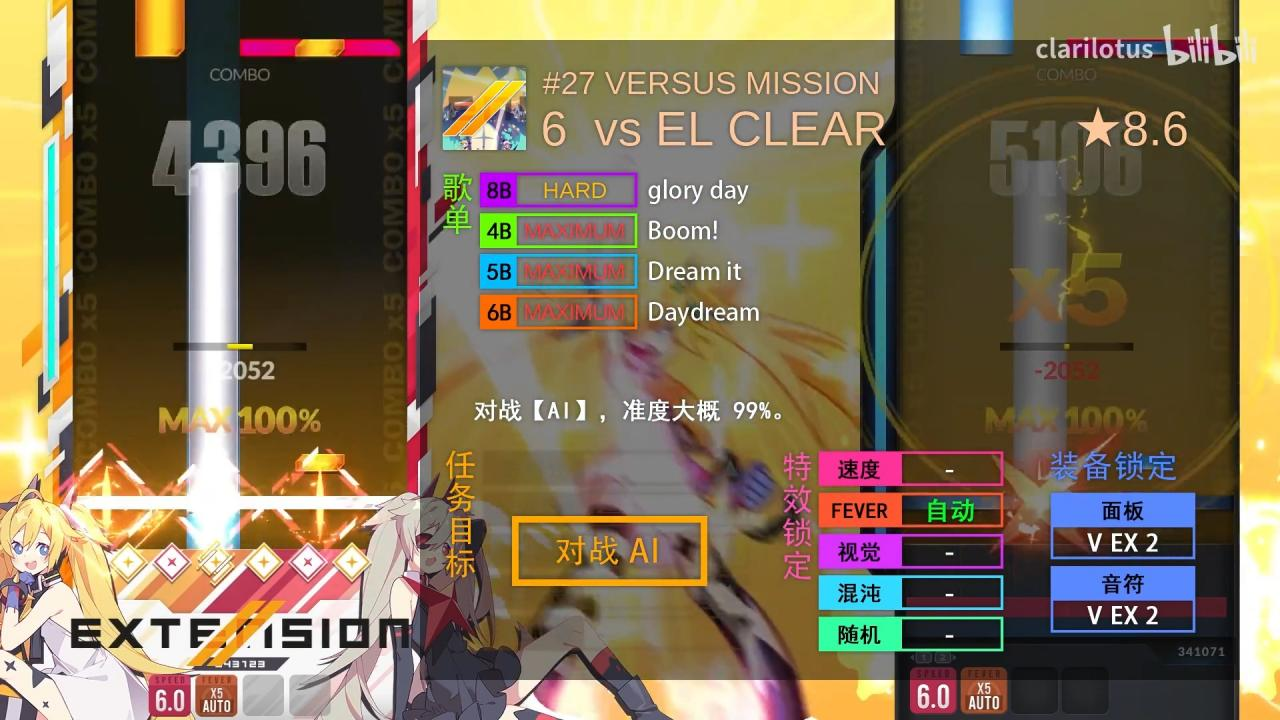hold-end: (188, 162, 238, 182)
hold-start: (135, 40, 185, 56)
note: (295, 454, 345, 472), (296, 39, 346, 57)
xnote: (240, 39, 401, 57)
